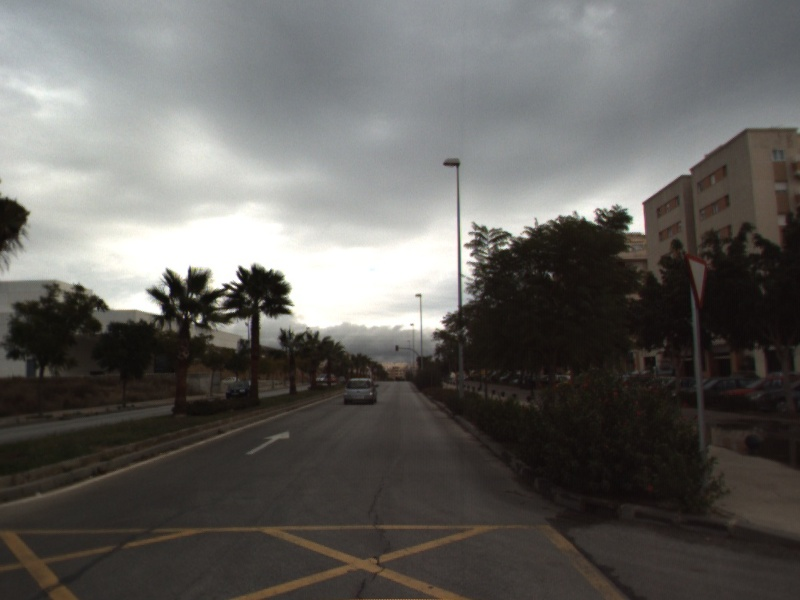STRAIGHT: (243, 428, 292, 456)
